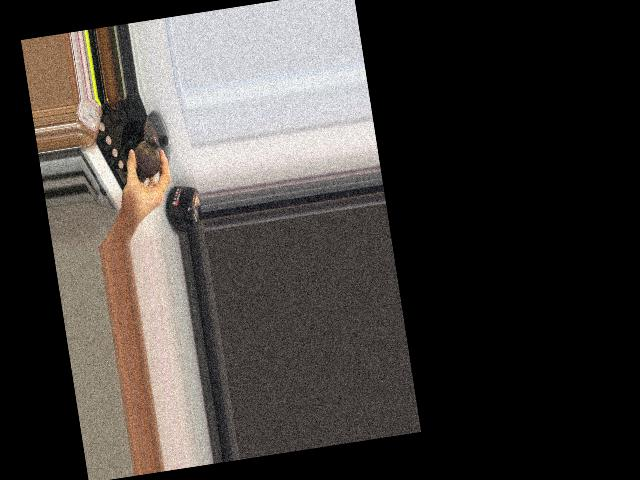beet: (132, 135, 163, 181)
